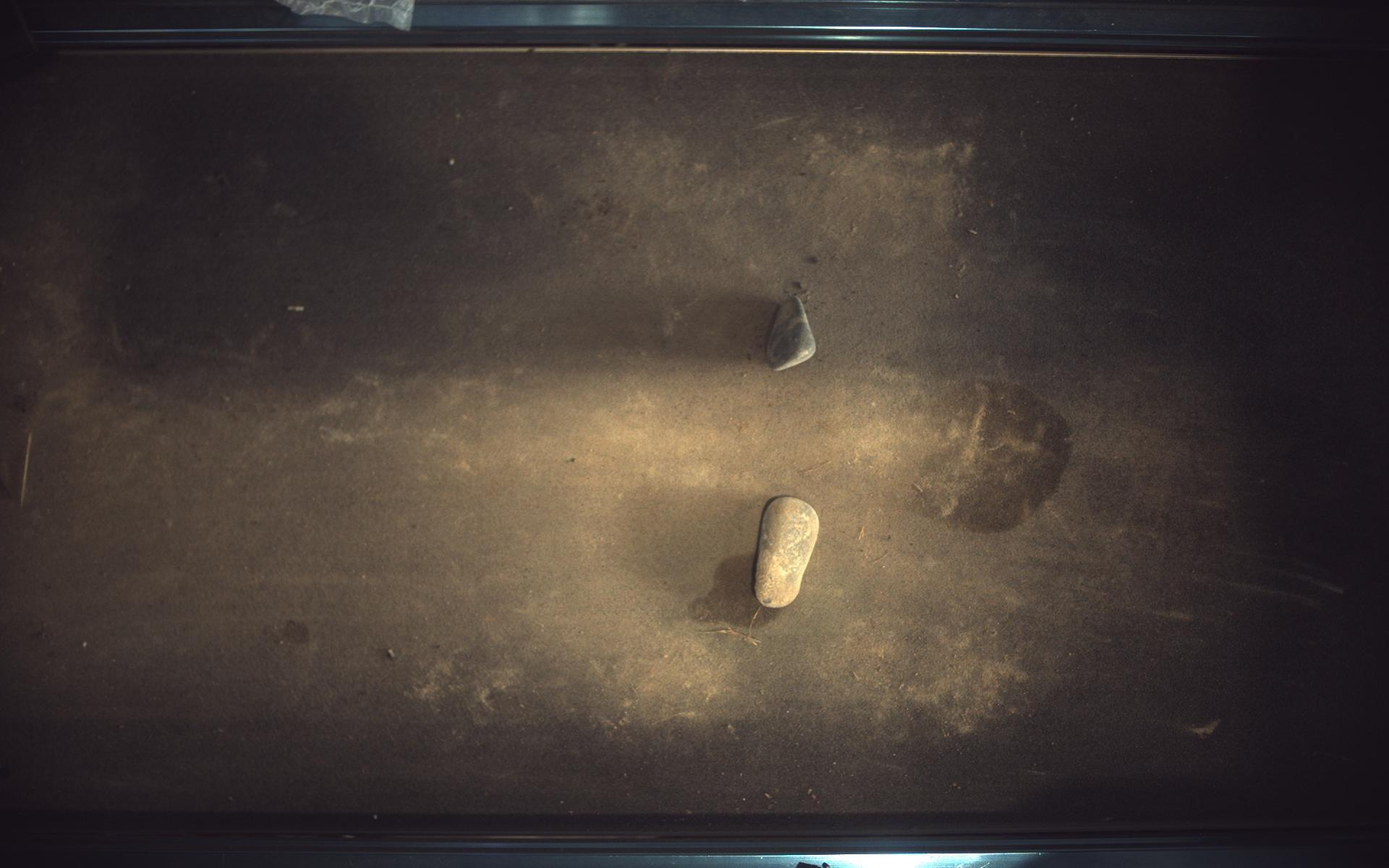stone: (755, 497, 820, 608), (768, 294, 817, 371)
